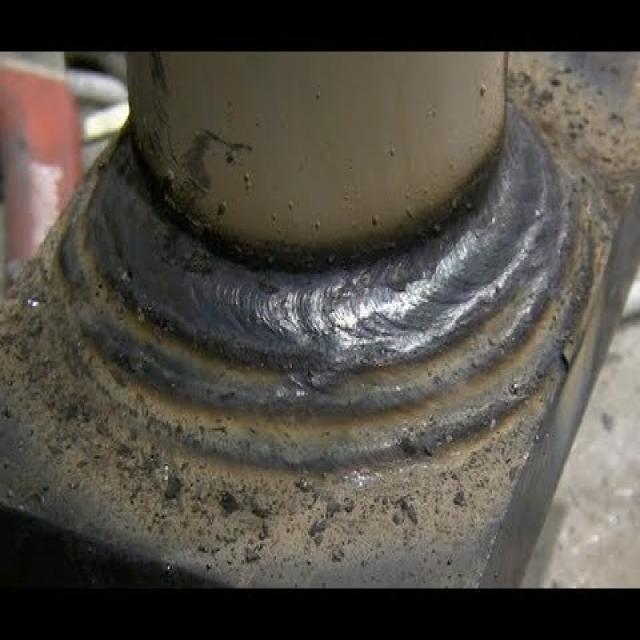Good Welding: (61, 115, 609, 468)
